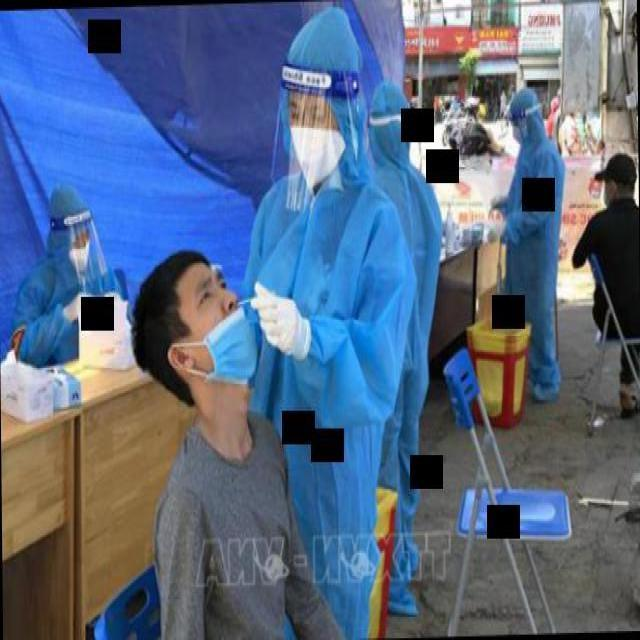hairnet: (213, 284, 258, 382)
